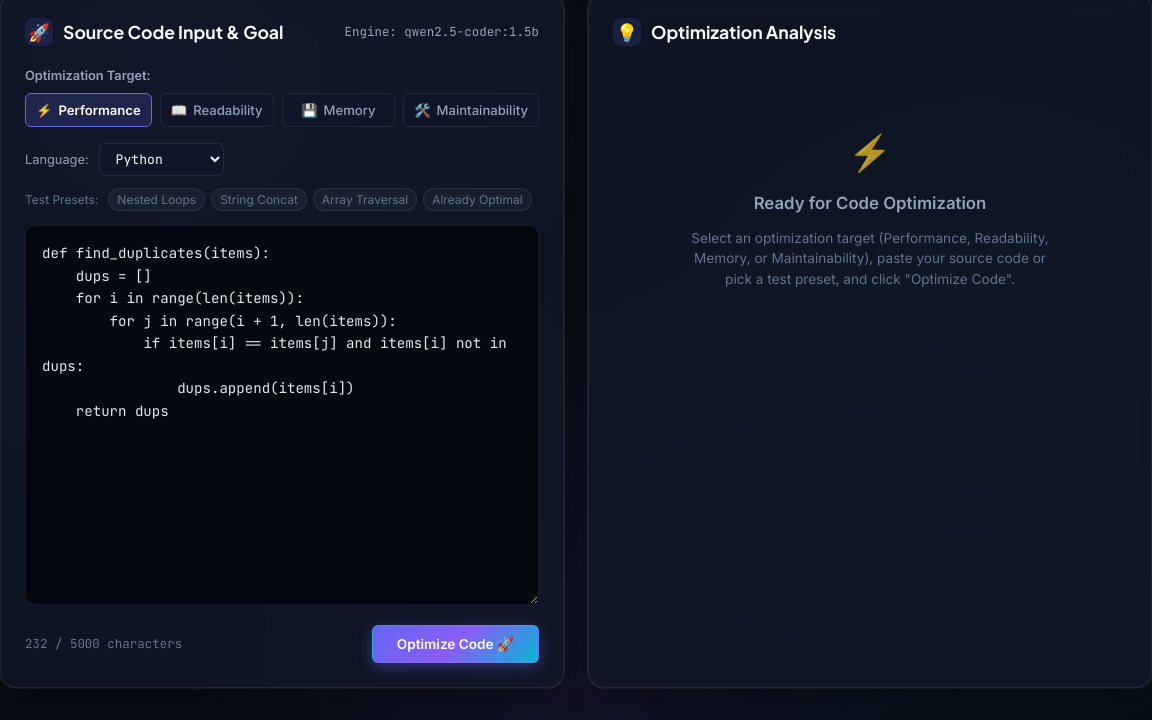
Scenario: CodeOptimizerView Feature Integration › displays loading state during AI inference and disables button
(page scrolled)
Click the button named "Optimize Code with AI" at (455, 644), box [372,625,539,663]
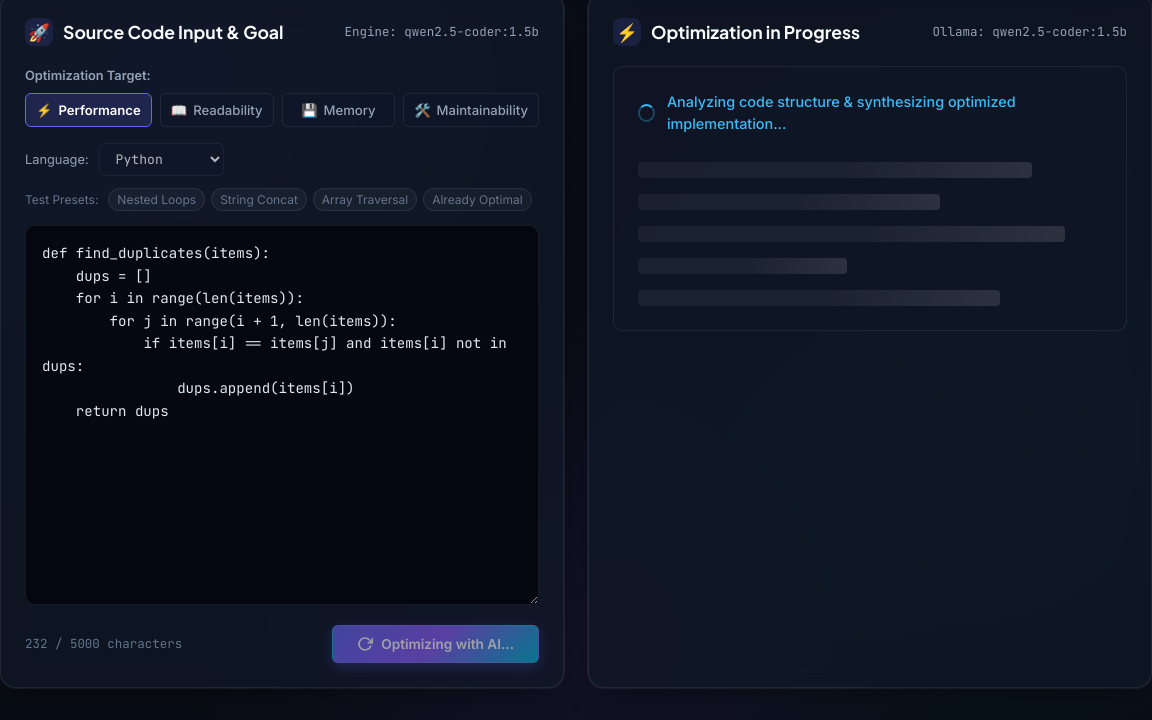
Check: the text "Analyzing code structure & synthesizing optimized implementation..." is shown, box [667,93,1016,132]
Check: the button named "Optimize Code with AI" is disabled, box [332,625,539,663]
